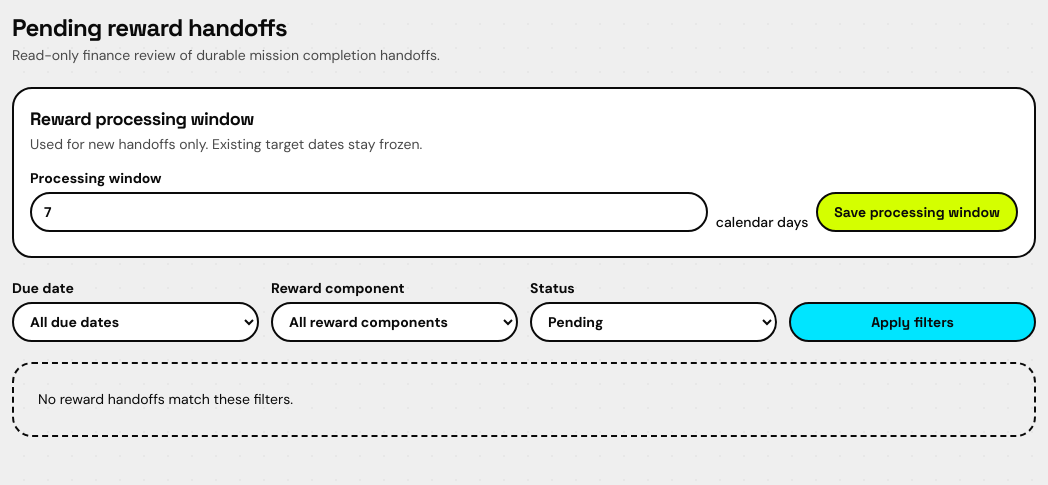
RewardHandoffQueue › shows a StrictMode save error and announces a successful retry
The width and height of the screenshot is (1048, 485).
Replace the text in the field labelled "Processing window" with "12" at [369, 212], box [30,192,708,232]
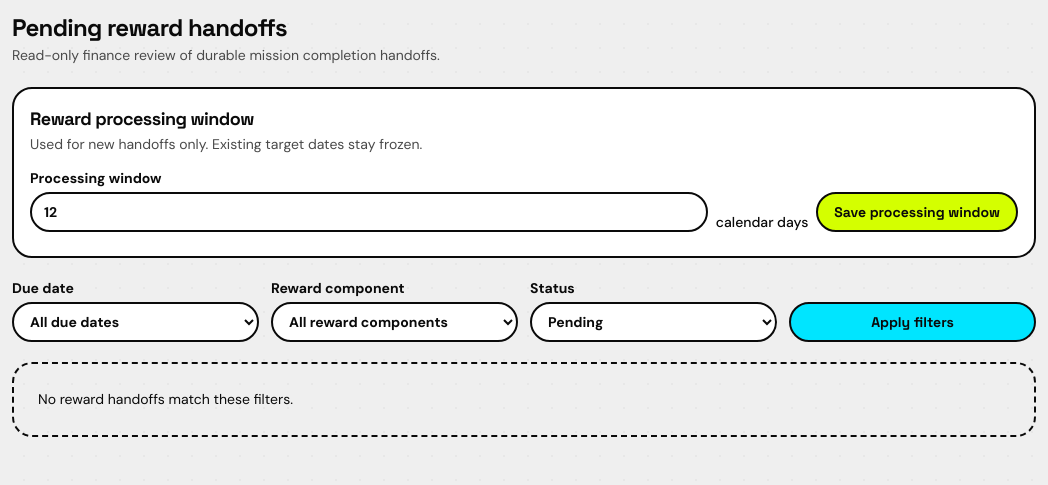
Click the button "Save processing window" at [917, 212], box [816,192,1018,232]
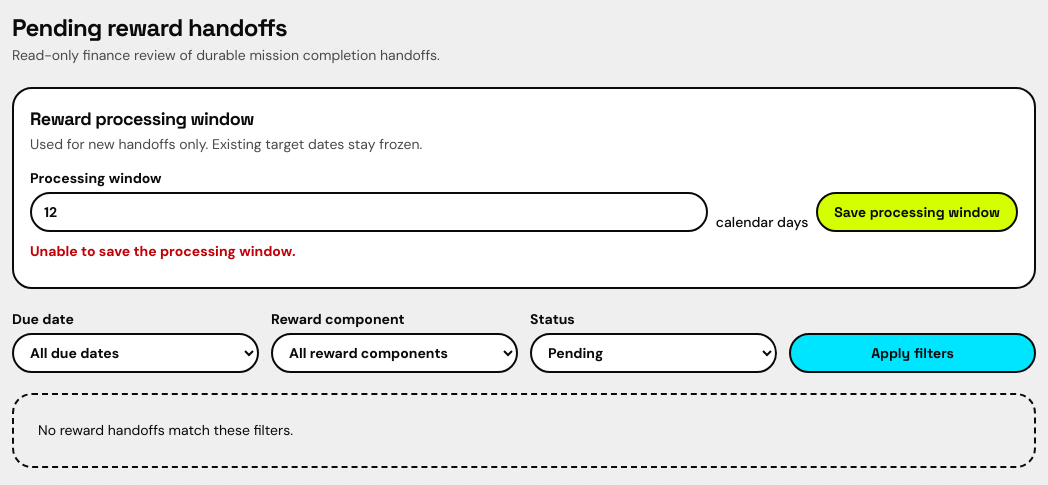
Expected: the message reads "Unable to save the processing window.", [30,242,296,260]
Click the button "Save processing window" at [917, 212], box [816,192,1018,232]
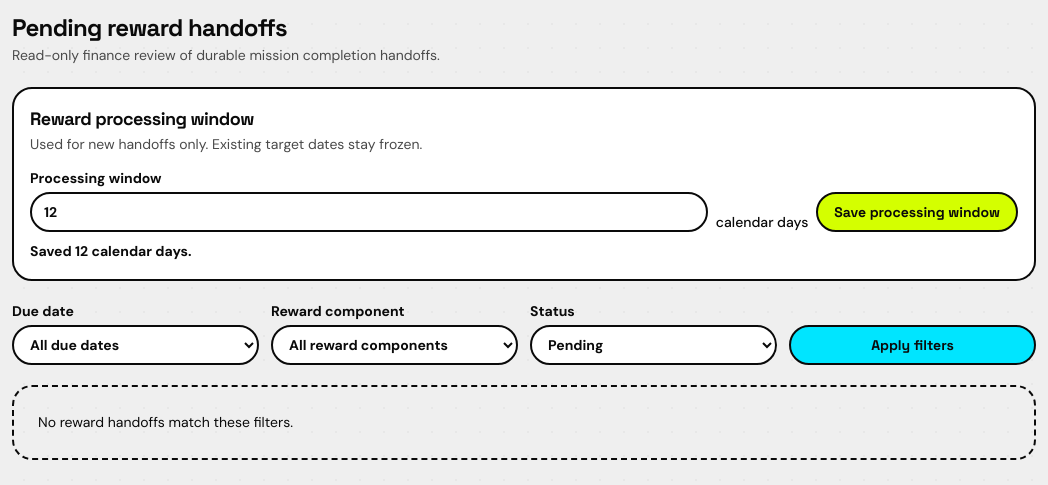
Expected: the message reads "Saved 12 calendar days.", [30,242,192,260]
